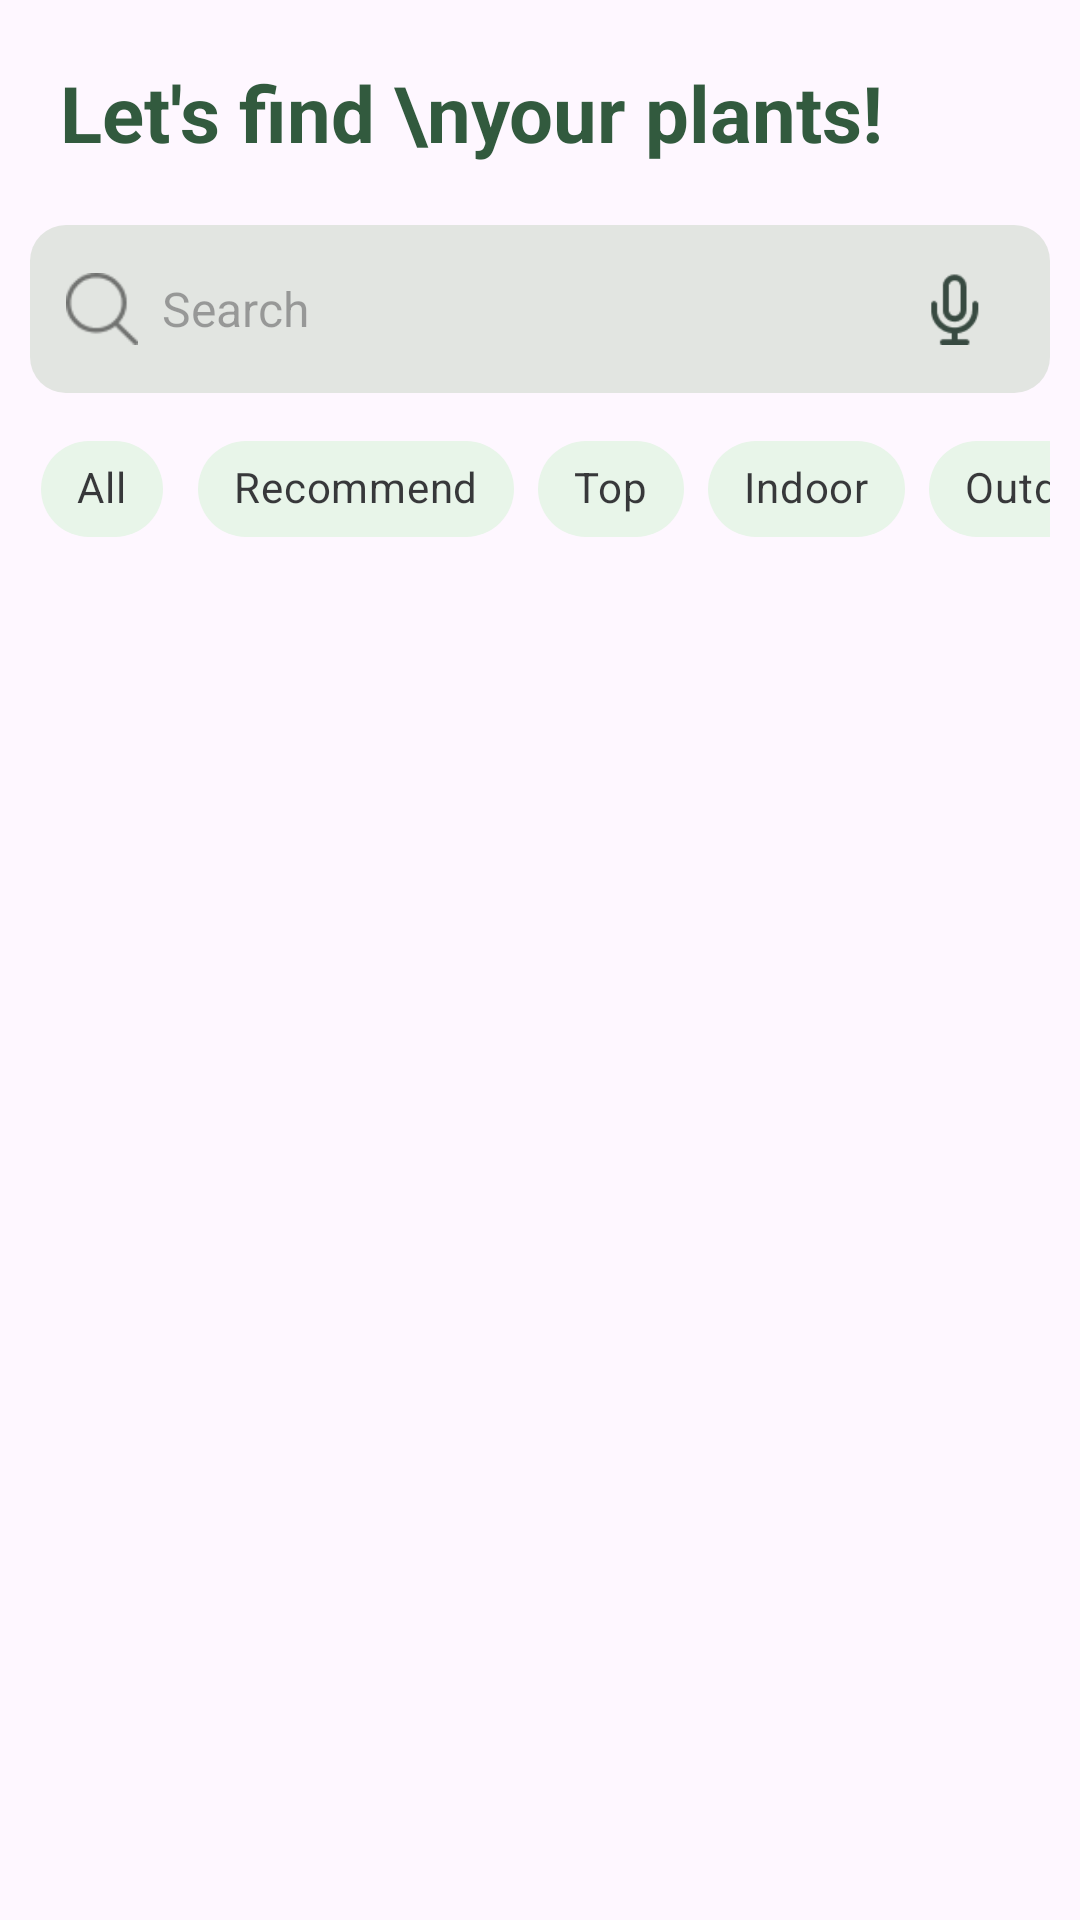

Screen size 1080 × 1920. Icon name, then its box in pixels as (x1, y1, x2, y2):
Mic Icon: (931, 274, 979, 345)
